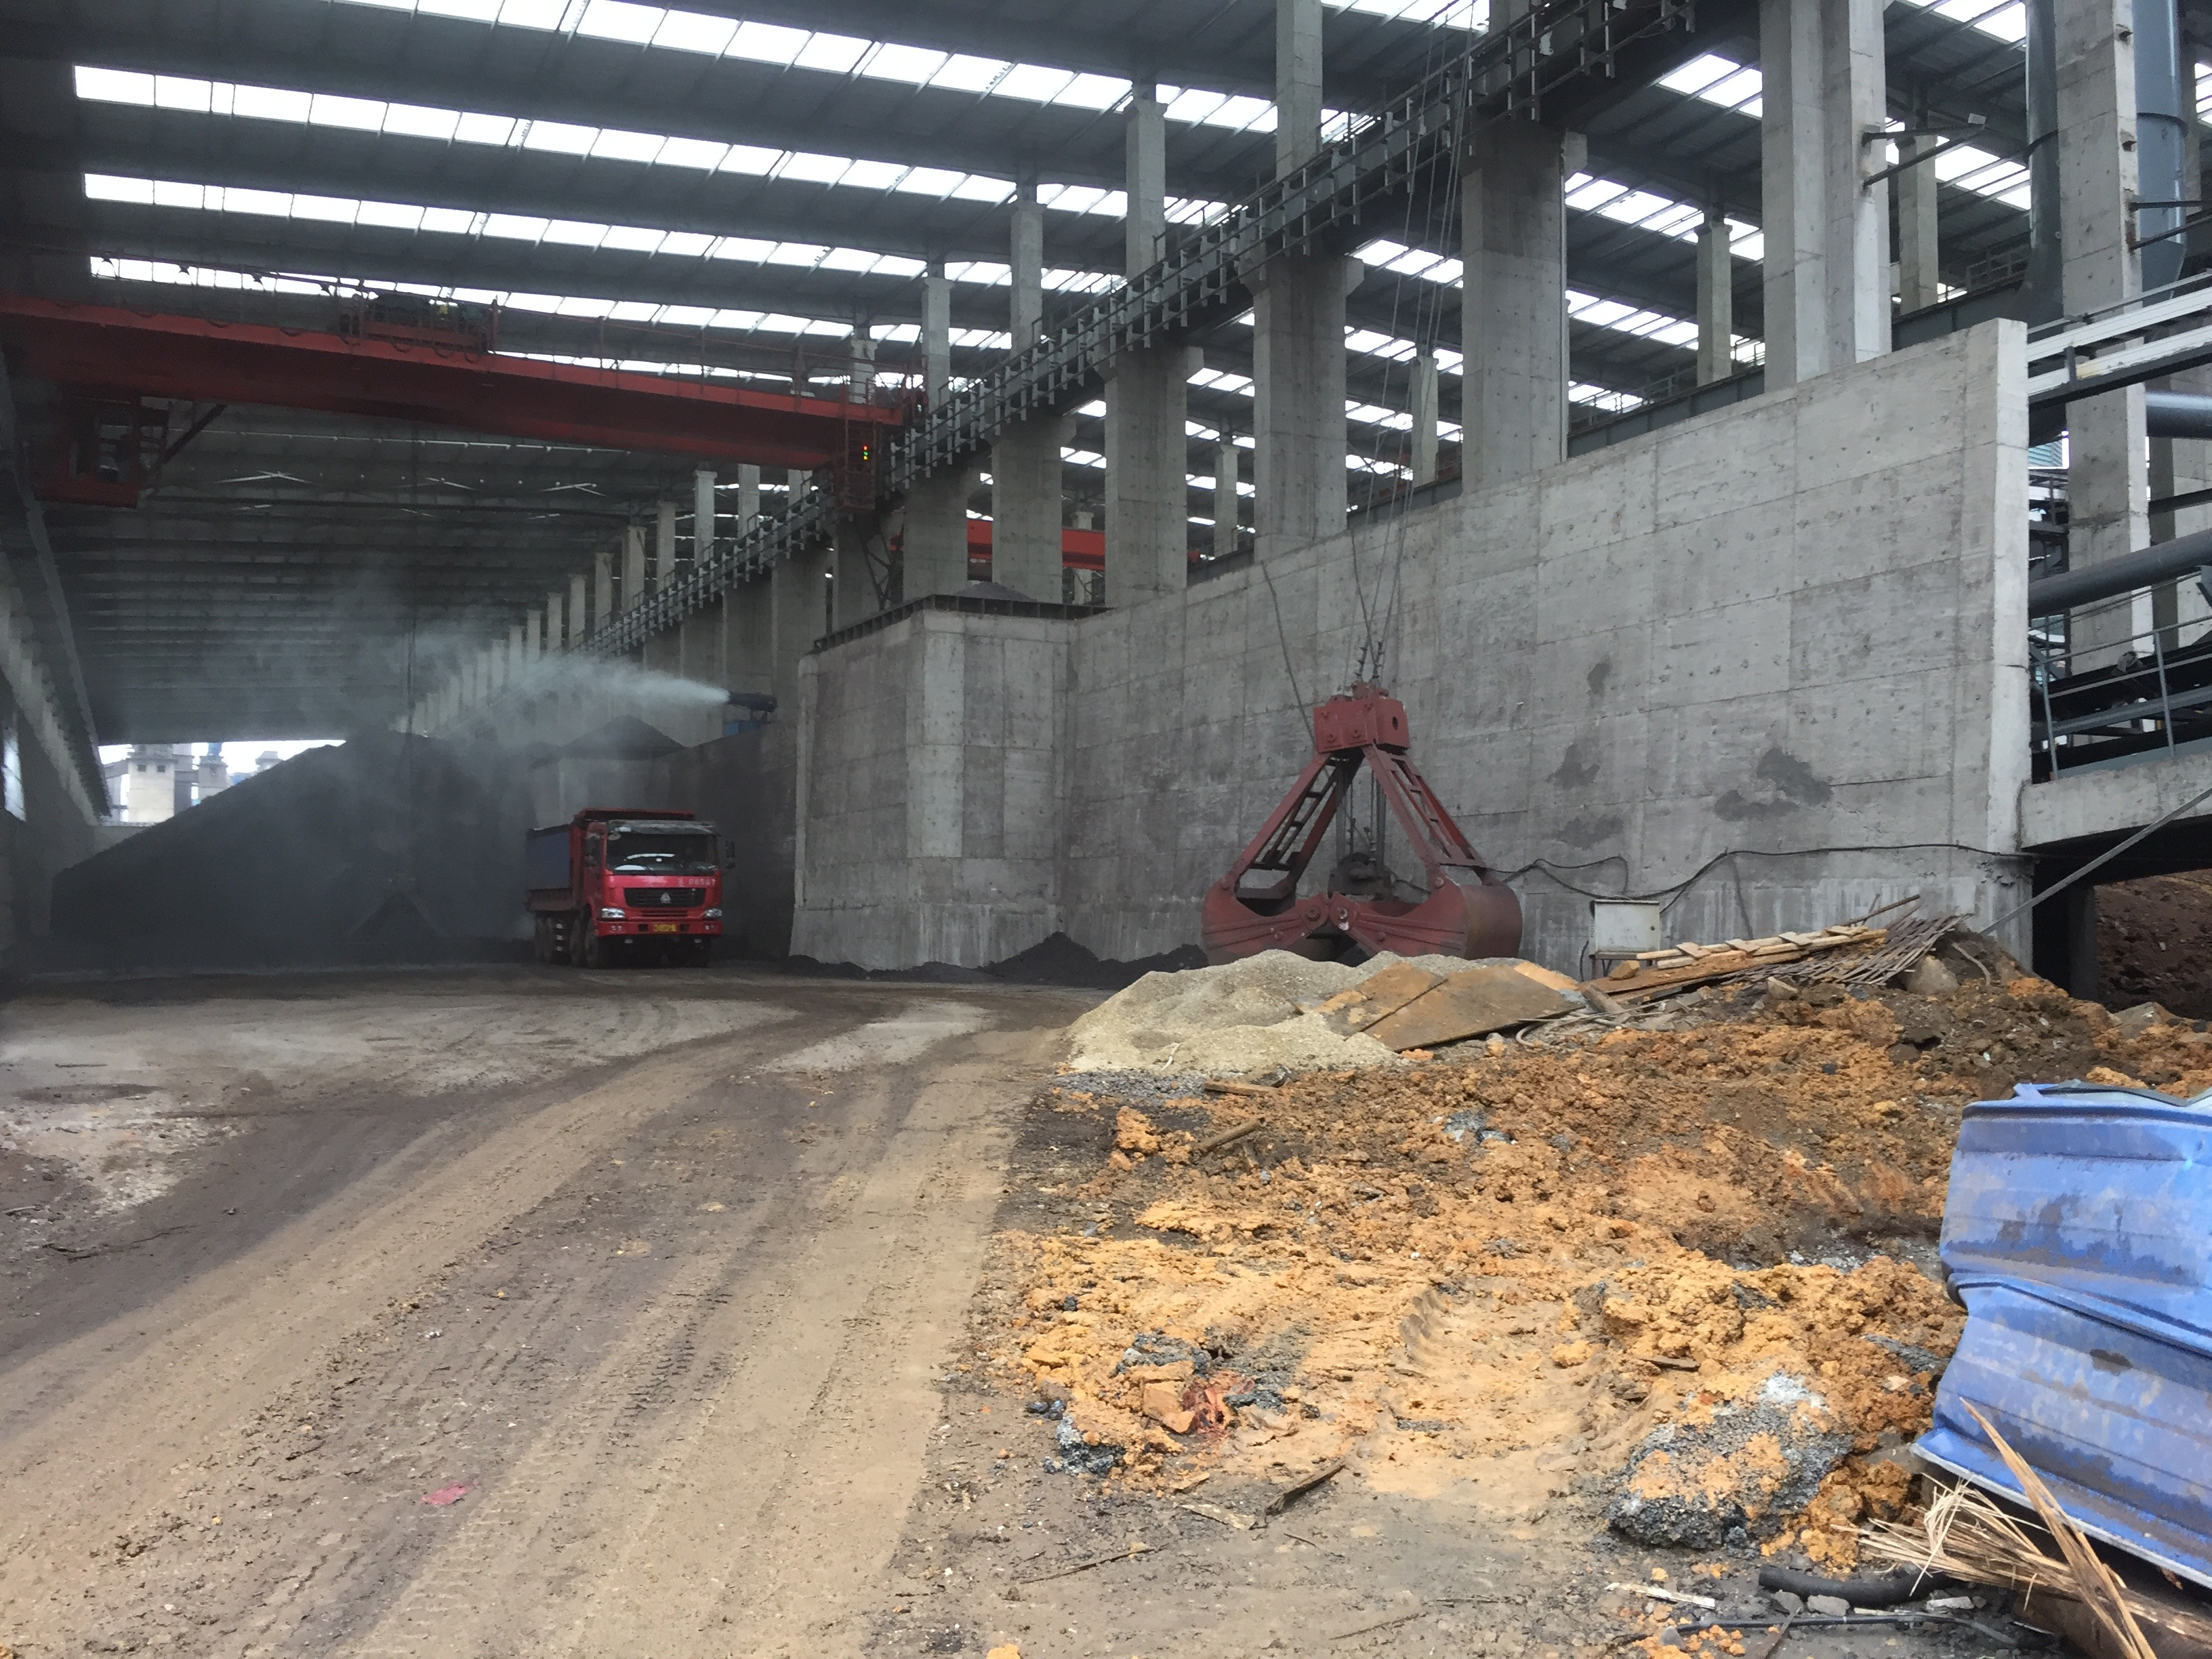dust: (105, 586, 704, 863)
grab: (1193, 671, 1531, 995)
truck: (503, 791, 740, 981)
